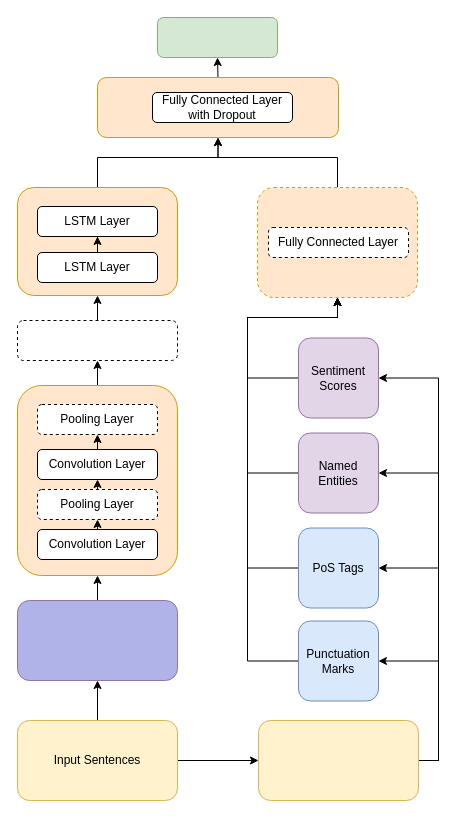
The diagram is 464 pixels wide and 818 high, and some of its shapes have lost their labels. The box of each missing label's shape, as (x1, y1, x2, y2) in pixels:
Dropout Layer: (16, 320, 178, 360)
Features Extraction Using Existing Libraries (spaCy, TextBlob): (258, 720, 418, 800)
SVM: (156, 16, 278, 58)
Word Embeddings through Elmo: (16, 600, 178, 680)
